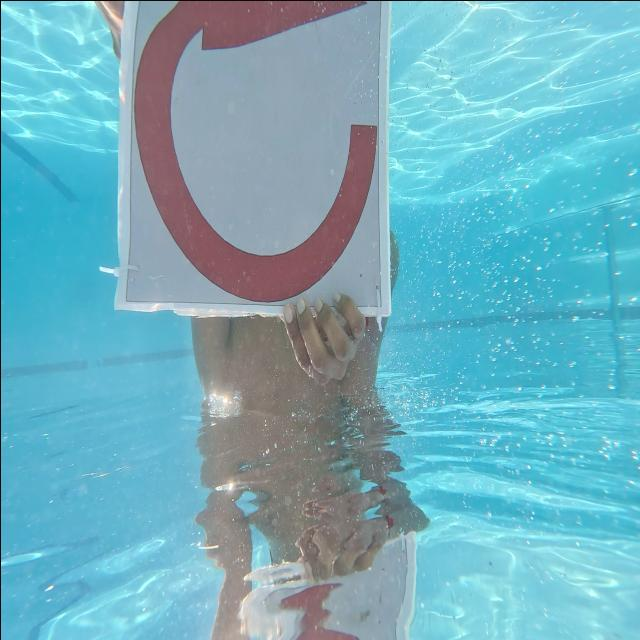red_side: (121, 0, 390, 322)
